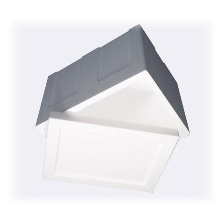foam_box: (28, 21, 198, 198)
